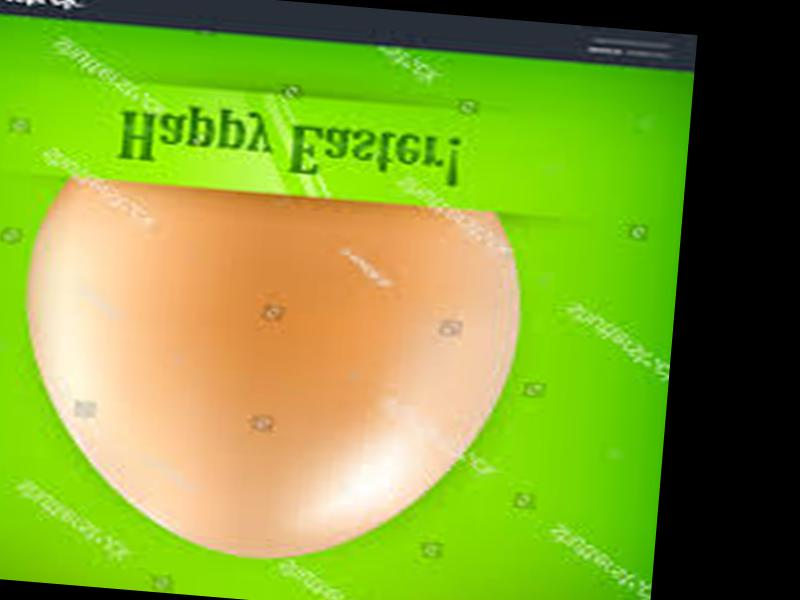Eggs: (8, 174, 527, 578)
